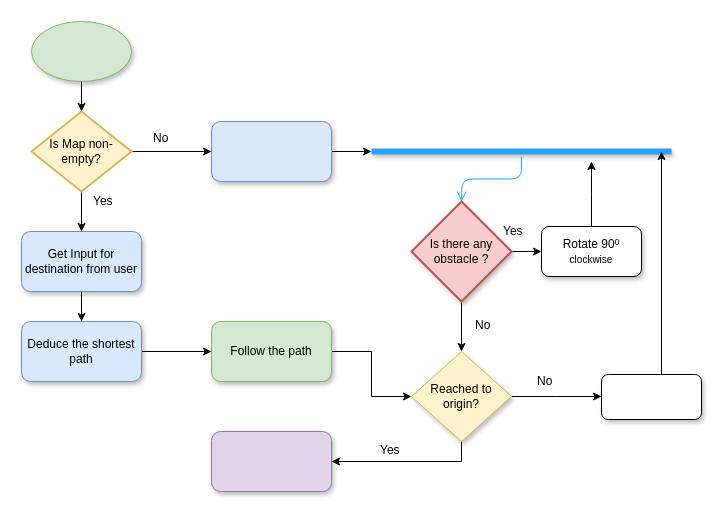
This 725x516 diagram has some shape labels left out. Each missing label, with the centre of its shape:
"Bot Starts" goes at pixel 82 52.
"Bot Stops" goes at pixel 272 462.
"Create and Empty map" goes at pixel 272 152.
"Move Forward" goes at pixel 652 398.
